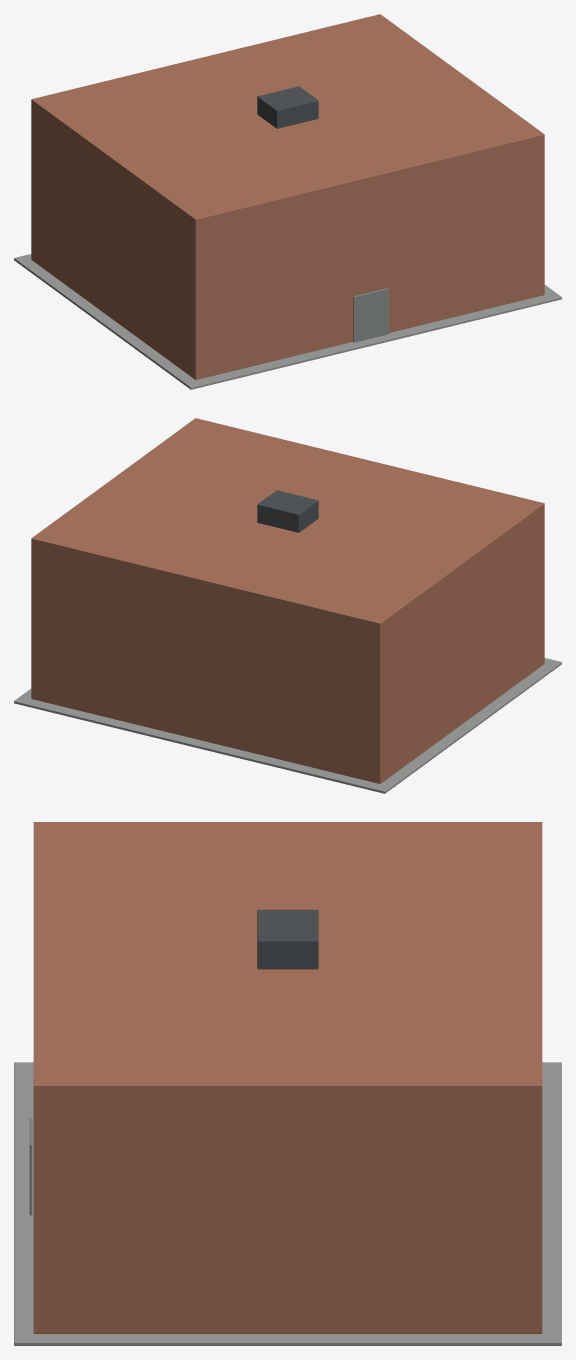
Rendered from Building_Landmark_005.glb.
The picture shows the model from 3 angles, top to bottom: view 1: azimuth 30°, elevation 25°; view 2: azimuth 150°, elevation 25°; view 3: azimuth 270°, elevation 25°; orthographic projection. The views are drawn at different scales.
Parts seen in each view (by area): view 1: Building_Landmark_005; view 2: Building_Landmark_005; view 3: Building_Landmark_005.
Boxes of the visible parts, box(x1,y1,x2,y2) form: Building_Landmark_005: box(14, 14, 561, 389); Building_Landmark_005: box(14, 418, 561, 793); Building_Landmark_005: box(14, 822, 561, 1345).
Bounding box in the file's own units: 25.37 × 11.86 × 20.97.
